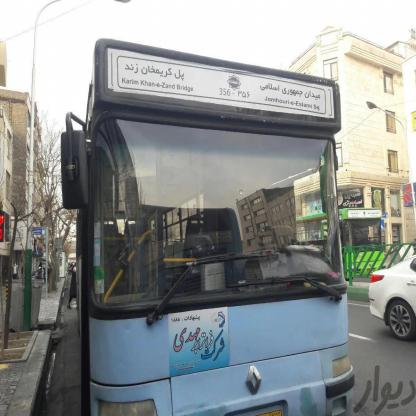Bus: (59, 23, 366, 416)
Car: (368, 247, 416, 360)
